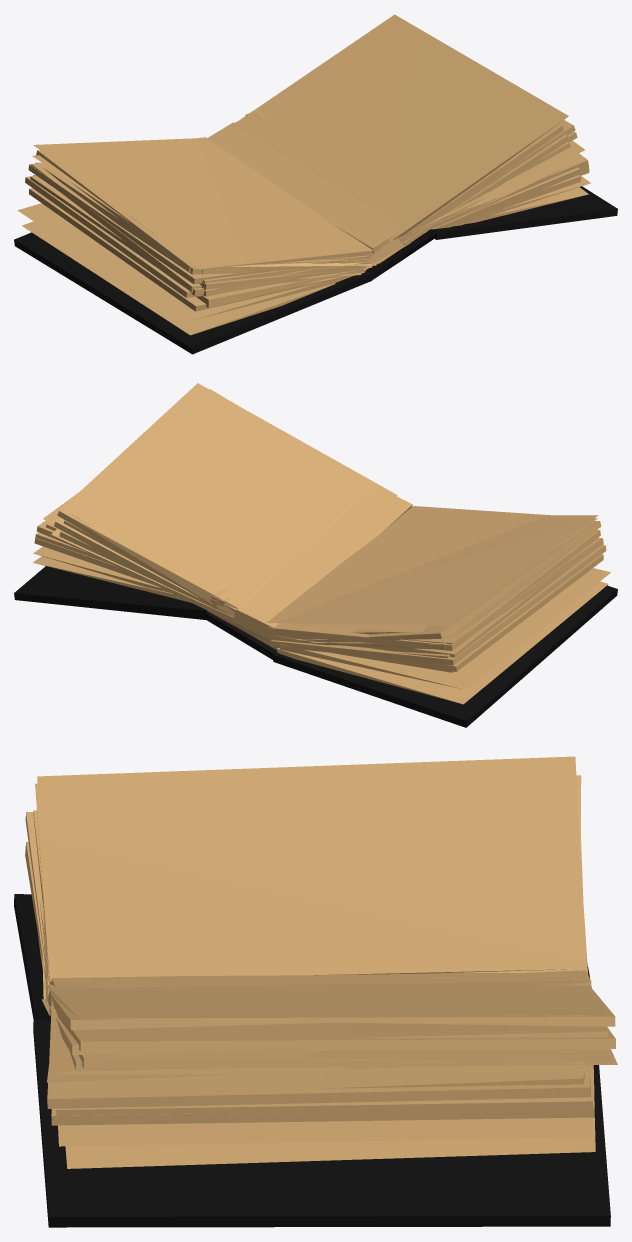
File: scrapbook.gltf
3 renders of one model, top to bottom at view 1: azimuth 30°, elevation 25°; view 2: azimuth 150°, elevation 25°; view 3: azimuth 270°, elevation 25°, orthographic. The views are drawn at different scales.
Parts seen in each view (by area): view 1: node_MeshObject-2038833152-PolyPaper21; view 2: node_MeshObject-2038833152-PolyPaper21; view 3: node_MeshObject-2038833152-PolyPaper21.
Part boxes in pixels (x1=…): node_MeshObject-2038833152-PolyPaper21: x1=14, y1=14, x2=617, y2=354; node_MeshObject-2038833152-PolyPaper21: x1=14, y1=383, x2=617, y2=727; node_MeshObject-2038833152-PolyPaper21: x1=14, y1=756, x2=617, y2=1227.
Size of the model in its own units: 0.699 by 0.2011 by 0.4724.
